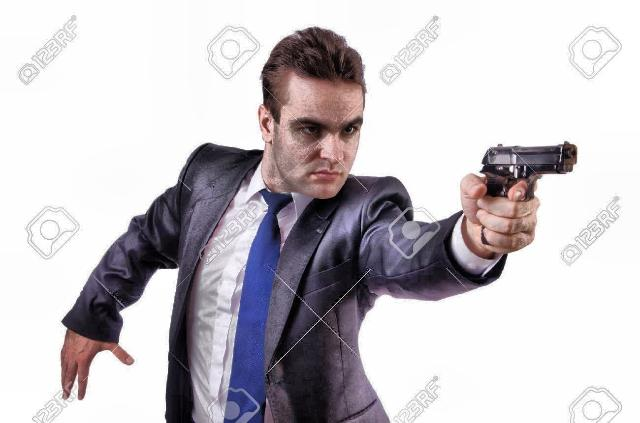pistol: (478, 142, 578, 248)
